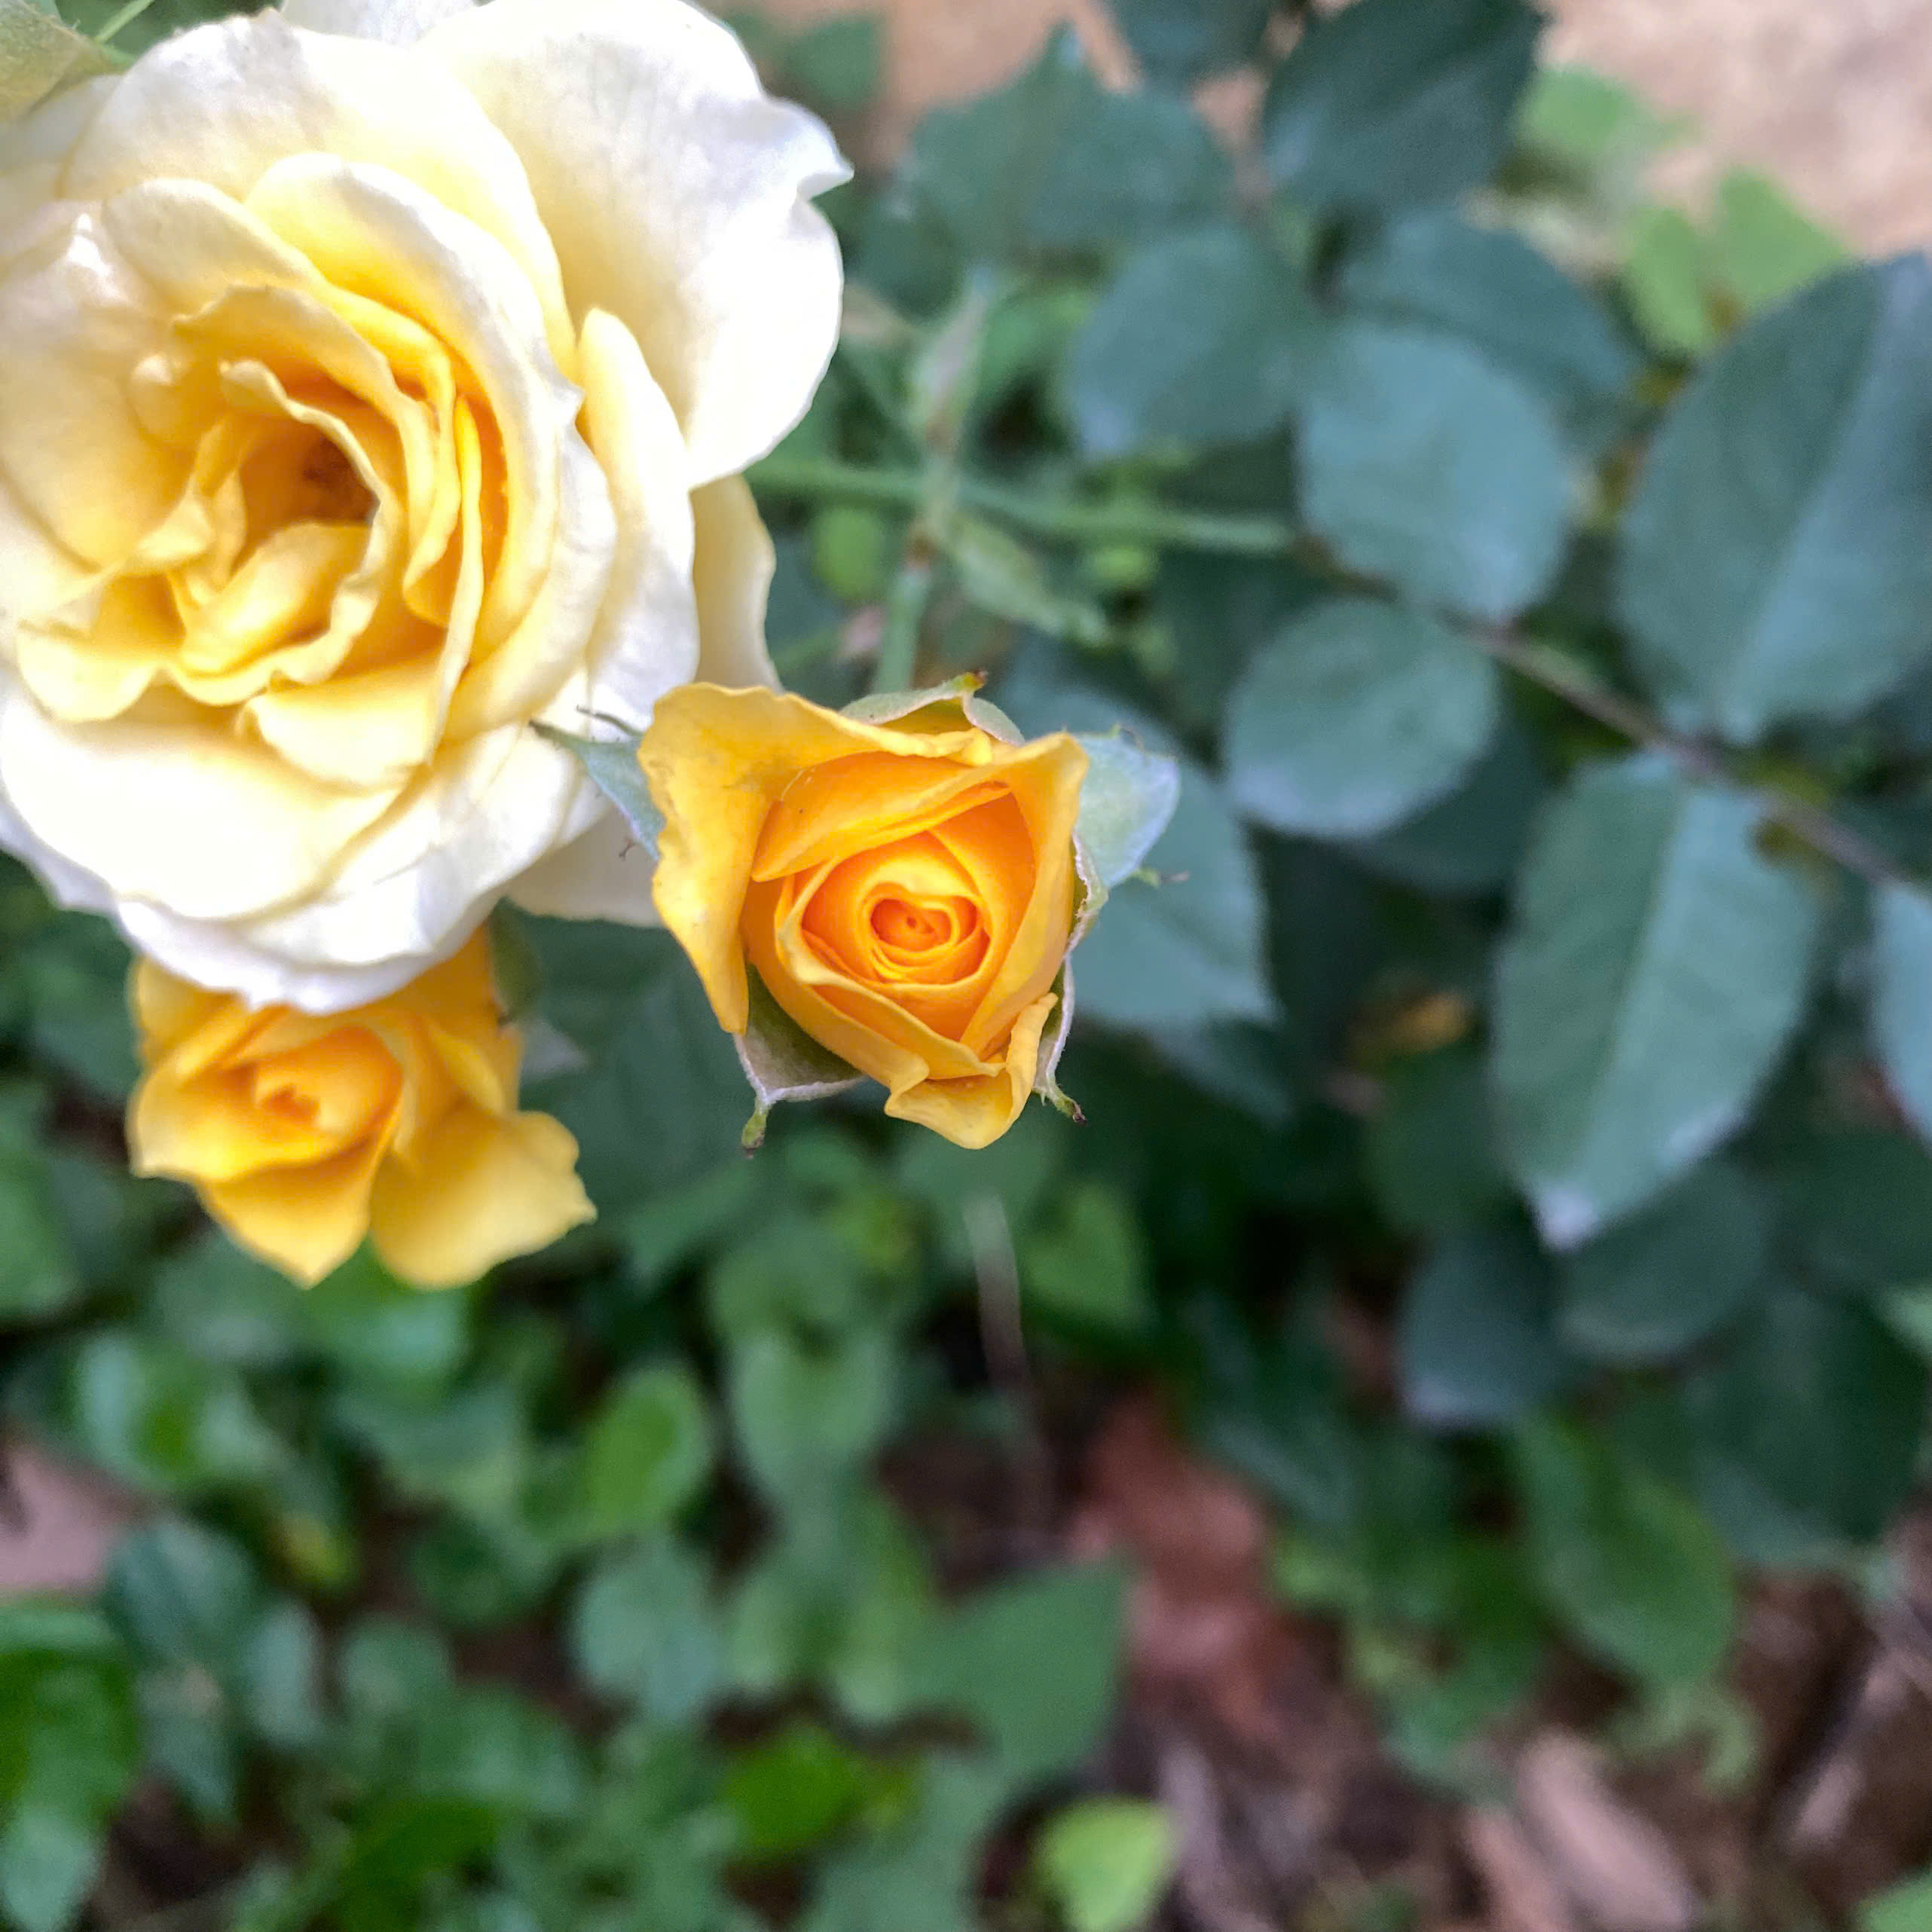hoa_thuoc_duoc: (0, 7, 1391, 1341)
